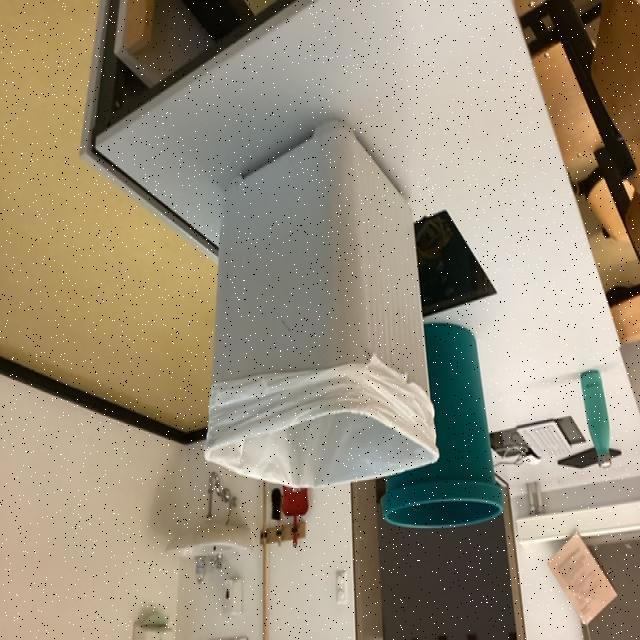garbage container: (177, 118, 441, 567)
